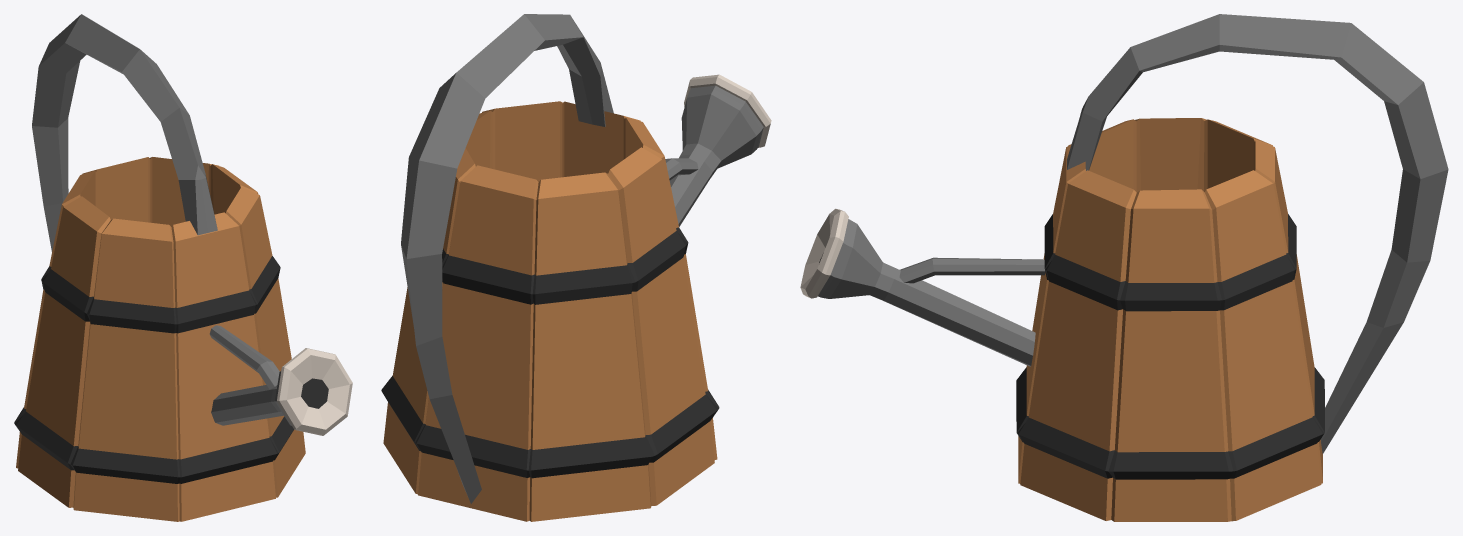
Rendered from WateringCan.fbx.
3 renders of one model, left to right at view 1: azimuth 30°, elevation 25°; view 2: azimuth 150°, elevation 25°; view 3: azimuth 270°, elevation 25°, orthographic. The views are drawn at different scales.
Parts seen in each view (by area): view 1: Cylinder.001; view 2: Cylinder.001; view 3: Cylinder.001.
Boxes of the visible parts, bbox=[...] form: Cylinder.001: bbox=[14, 14, 352, 521]; Cylinder.001: bbox=[381, 14, 771, 521]; Cylinder.001: bbox=[800, 14, 1448, 521].
Size of the model in its own units: 38.87 by 61.97 by 81.61.
